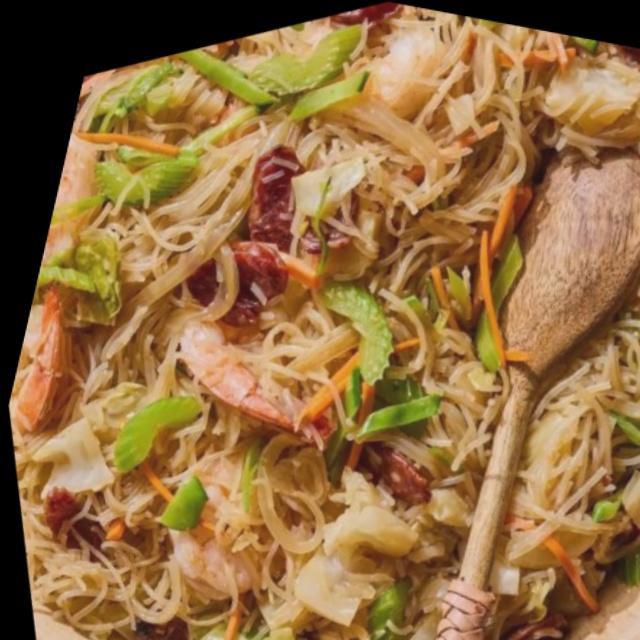pancit bihon: (11, 0, 639, 639)
